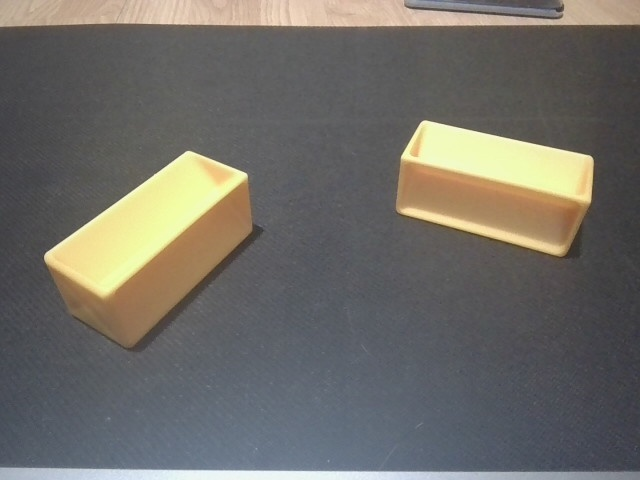YellowSample: (39, 147, 256, 353), (391, 116, 596, 262)
